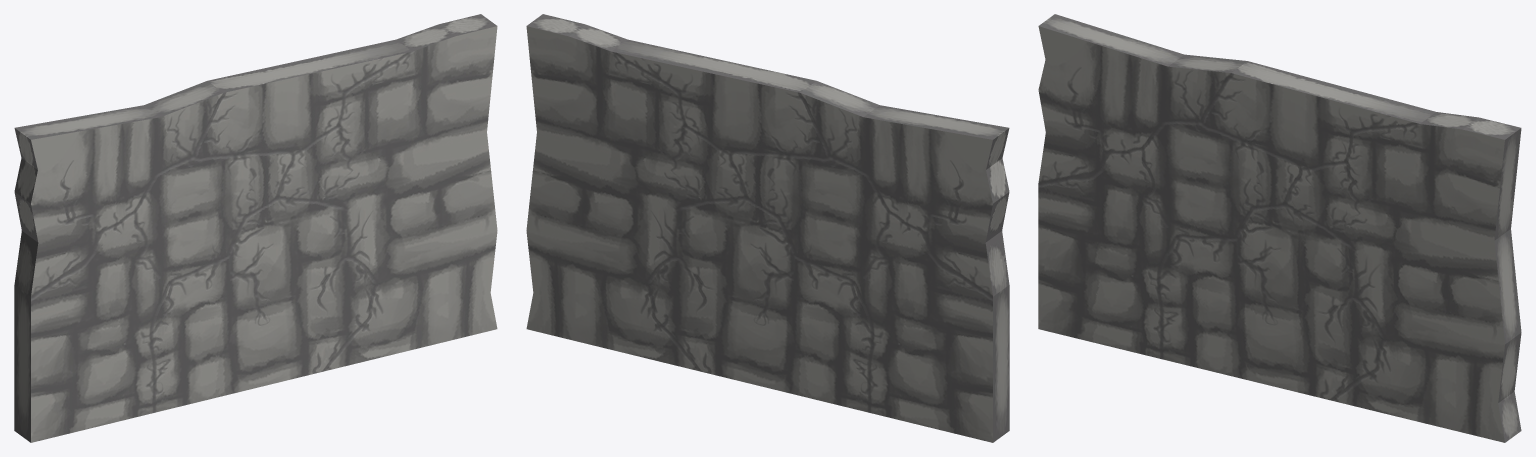
Rendered from RuinedStructure02_Geo.fbx.
3 views of the same model, side by side, from view 1: azimuth 30°, elevation 25°; view 2: azimuth 150°, elevation 25°; view 3: azimuth 330°, elevation 25° (orthographic).
Parts seen in each view (by area): view 1: RuinedStructure015_Geo, RuinedStructure012_Geo, RuinedStructure013_Geo, RuinedStructure011_Geo_, RuinedStructure014_Geo; view 2: RuinedStructure015_Geo, RuinedStructure012_Geo, RuinedStructure013_Geo, RuinedStructure011_Geo_, RuinedStructure014_Geo; view 3: RuinedStructure015_Geo, RuinedStructure012_Geo, RuinedStructure013_Geo, RuinedStructure011_Geo_, RuinedStructure014_Geo.
Part boxes in pixels (left/top/right/bottom): RuinedStructure015_Geo: left=276, top=14, right=497, bottom=371; RuinedStructure012_Geo: left=14, top=152, right=294, bottom=442; RuinedStructure013_Geo: left=151, top=197, right=376, bottom=412; RuinedStructure011_Geo_: left=14, top=81, right=223, bottom=296; RuinedStructure014_Geo: left=192, top=39, right=411, bottom=158; RuinedStructure015_Geo: left=526, top=14, right=747, bottom=371; RuinedStructure012_Geo: left=729, top=152, right=1009, bottom=442; RuinedStructure013_Geo: left=647, top=197, right=872, bottom=412; RuinedStructure011_Geo_: left=800, top=81, right=1009, bottom=296; RuinedStructure014_Geo: left=612, top=39, right=831, bottom=158; RuinedStructure015_Geo: left=1284, top=112, right=1521, bottom=442; RuinedStructure012_Geo: left=1038, top=121, right=1301, bottom=358; RuinedStructure013_Geo: left=1158, top=203, right=1383, bottom=400; RuinedStructure011_Geo_: left=1038, top=14, right=1247, bottom=182; RuinedStructure014_Geo: left=1200, top=61, right=1435, bottom=166.
Size of the model in its own units: 483 by 300 by 29.56.
